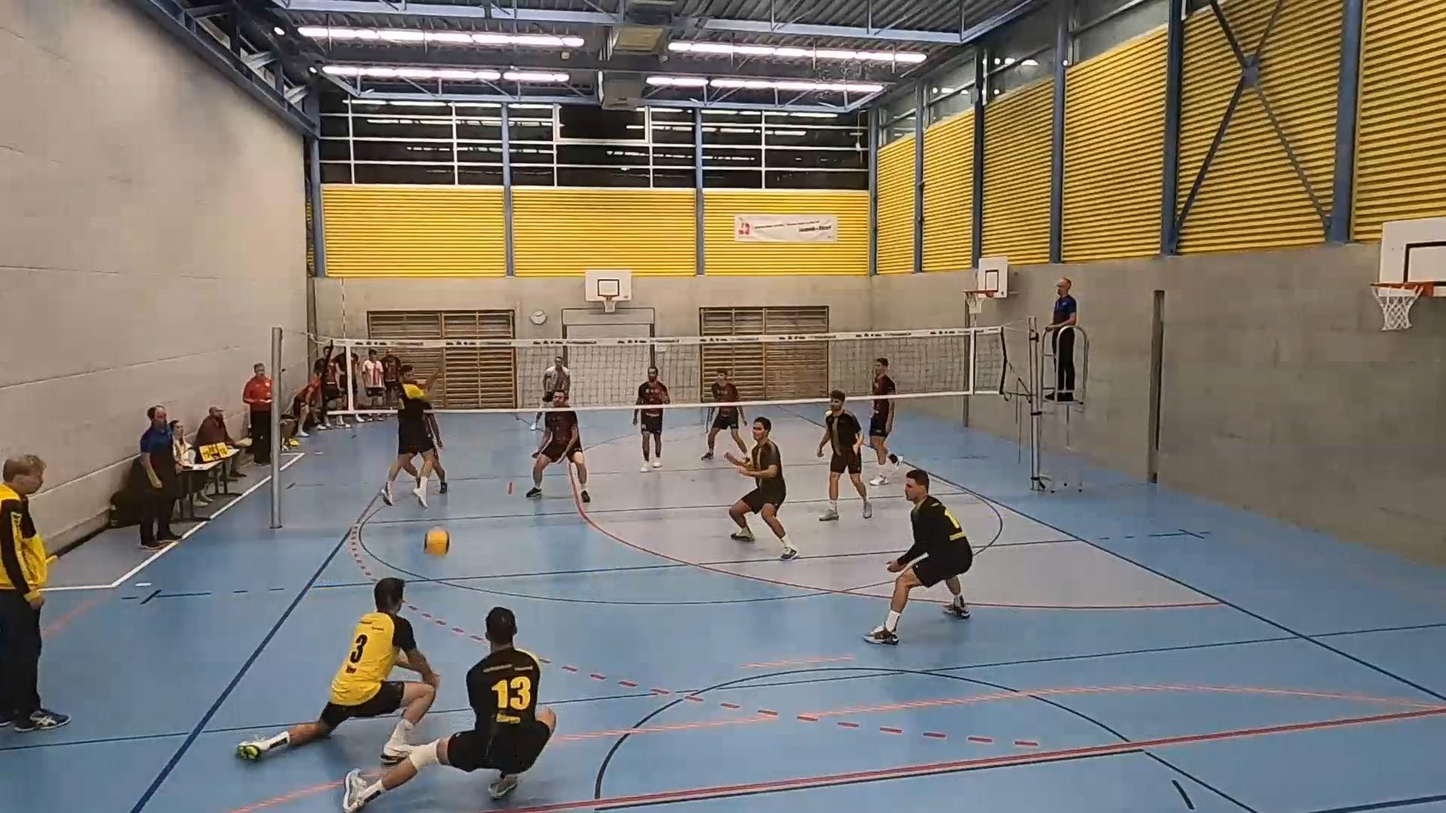difesa: (231, 561, 441, 775), (343, 604, 554, 813)
